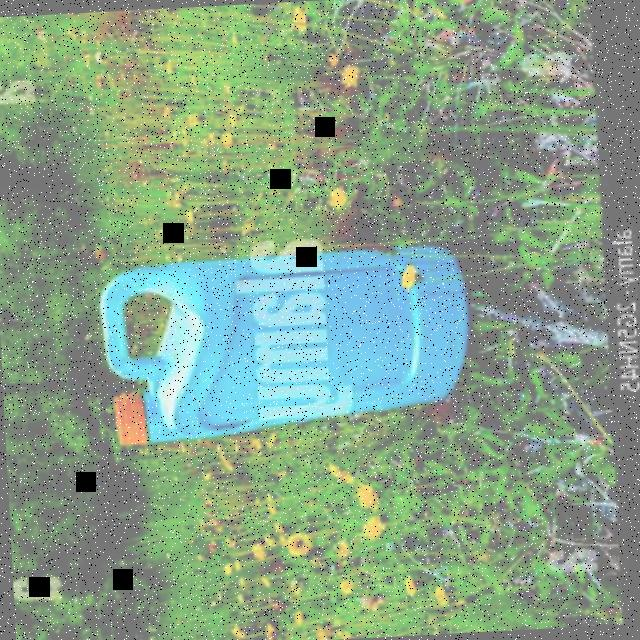chemical_plastic_gallon: (88, 222, 490, 452)
